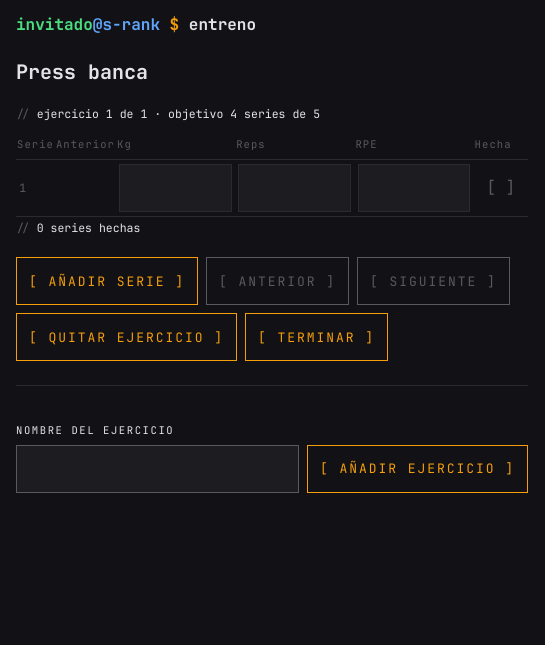
it: un récord se anuncia en el momento de batirlo
The image size is (545, 645).
Type "85" into the number field named "Peso en kilos, serie 1" at x=176, y=188, box [119,164,232,212]
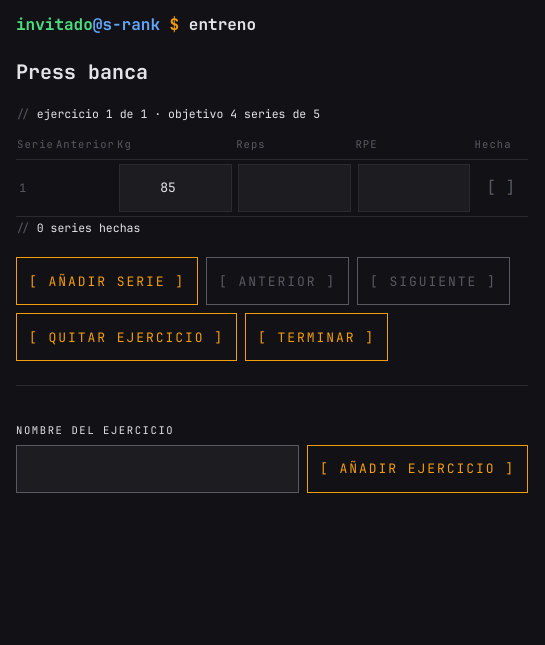
Type "3" into the number field named "Repeticiones, serie 1" at x=295, y=188, box [238,164,351,212]
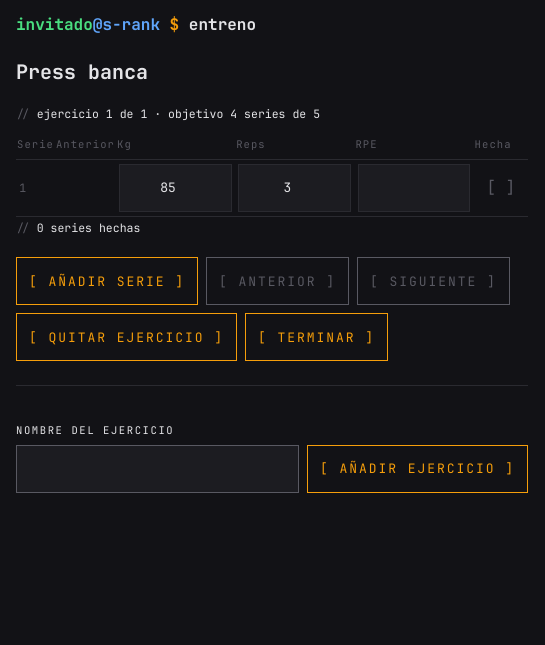
Click the button named "Serie 1, pendiente" at x=501, y=188, box [477,164,525,212]
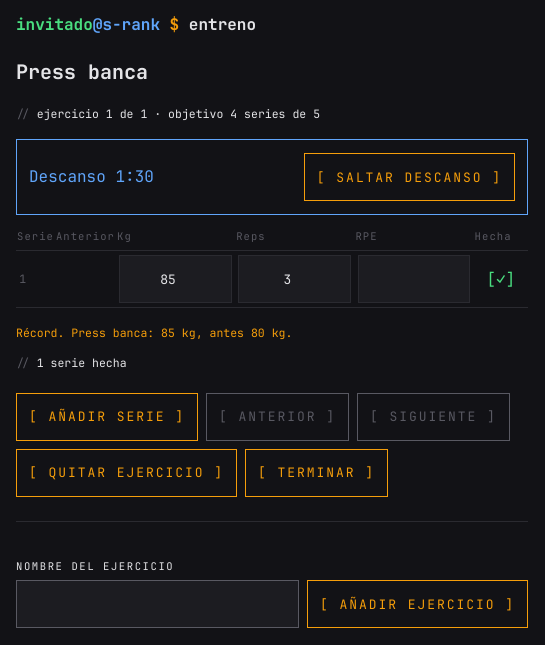
Check: the text "Récord. Press banca: 85 kg, antes 80 kg." is shown, box [16,326,292,340]
